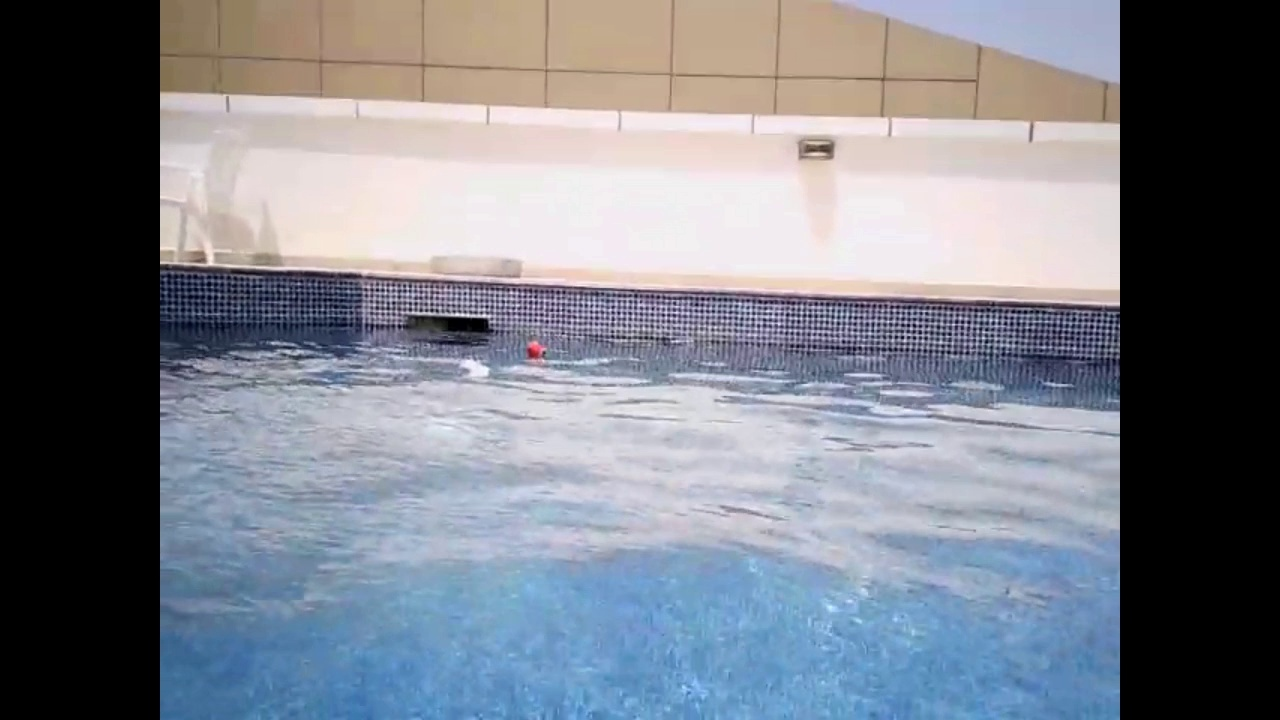debris: (455, 350, 494, 383), (518, 335, 555, 363)
